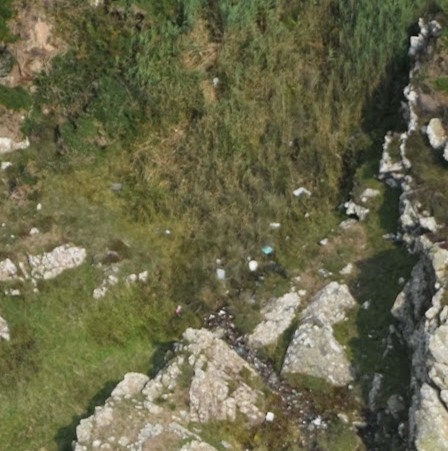scattered_barrel: (203, 213, 296, 283)
white_in_green: (276, 166, 328, 213)
